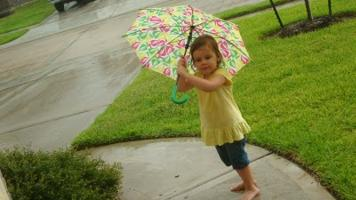person: (177, 36, 262, 200)
